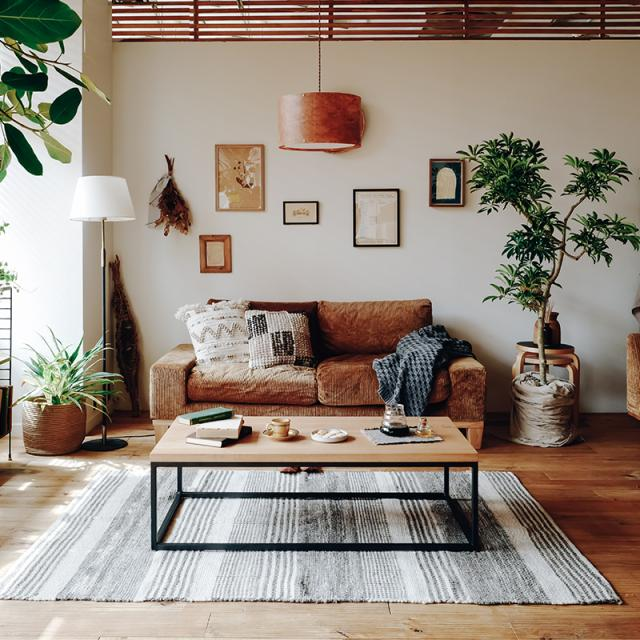vintage desk: (146, 414, 482, 551)
vintage sofa: (148, 296, 487, 419)
